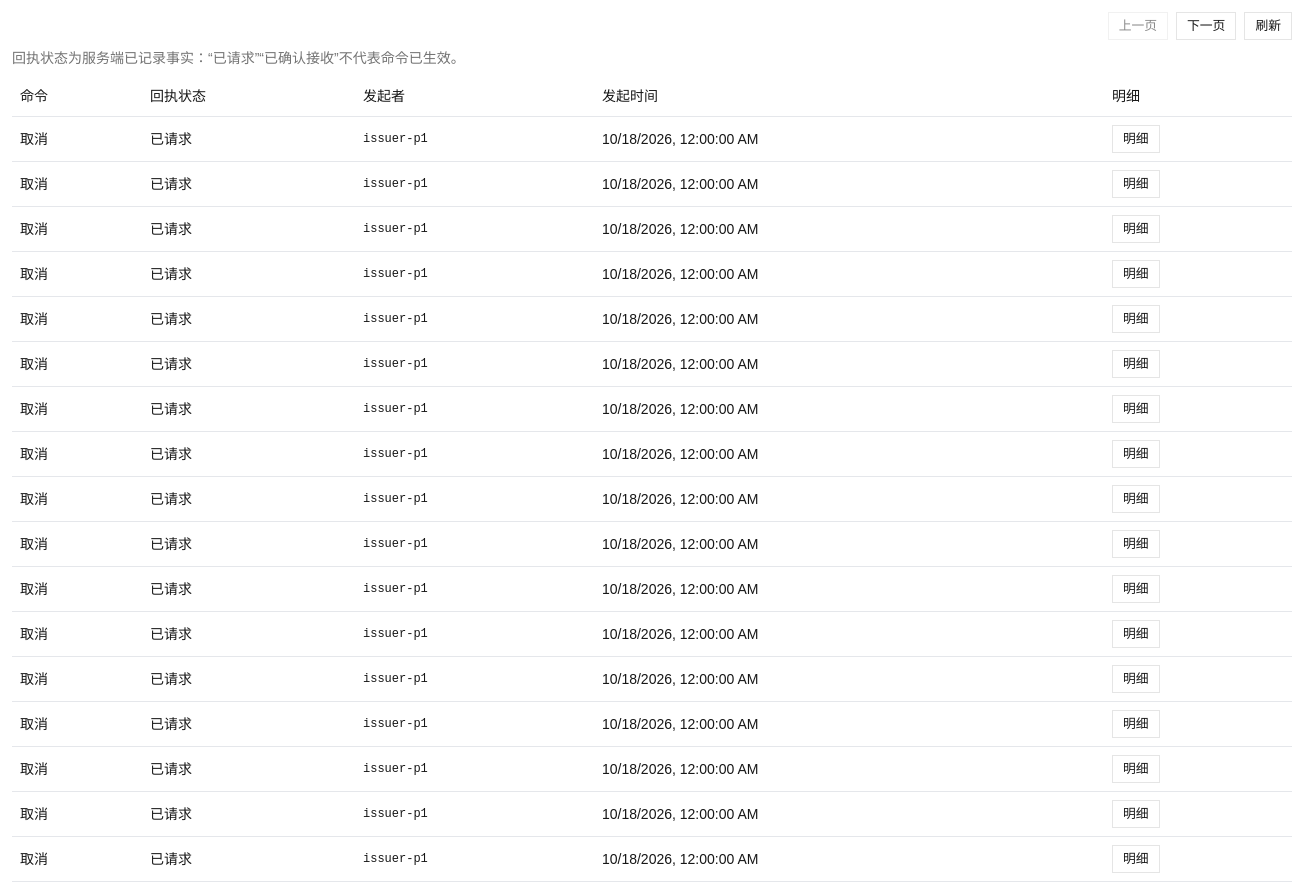
it: TaskCommandsPanel pagination › pages forward by offset and back through the offset stack
Click the button "下一页".
click(1206, 26)  # box [1176,12,1236,40]
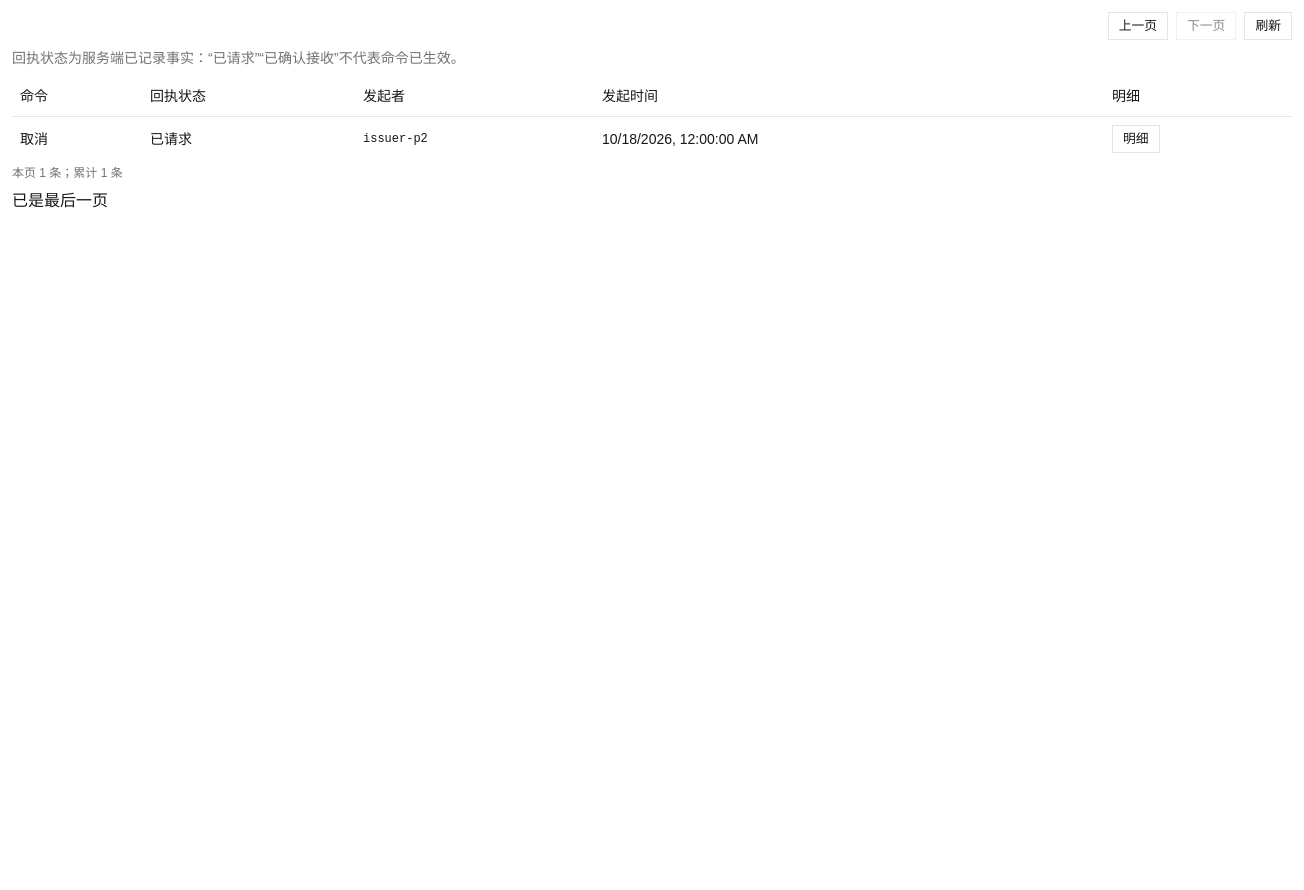
Expected: the text "issuer-p2" is shown, [355,116,594,160]
Expected: the text with test id "task-commands-end" reads "已是最后一页", [12,192,108,208]
Expected: the button "下一页" is disabled, [1176,12,1236,40]
Click the button "上一页".
click(1138, 26)  # box [1108,12,1168,40]
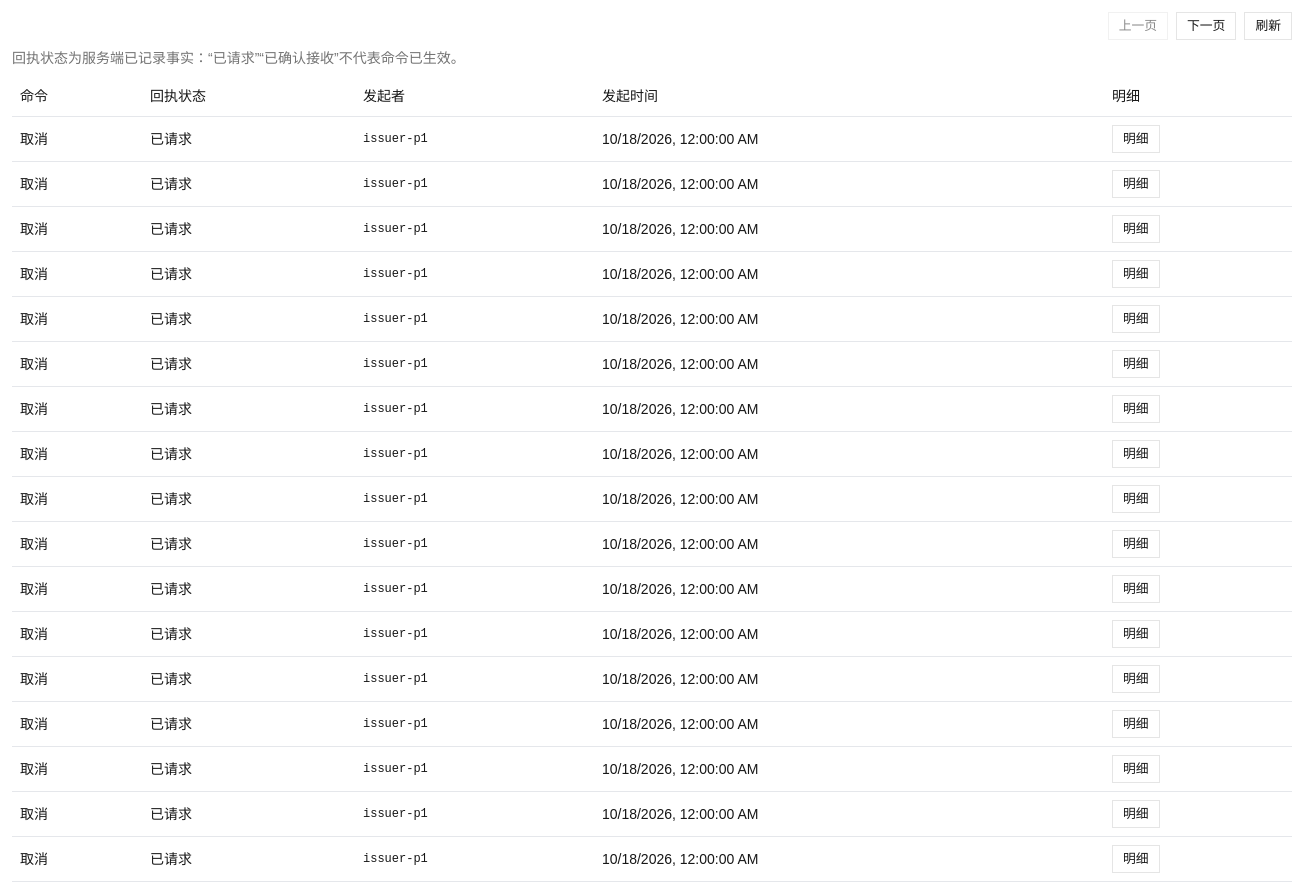
Expected: the 1st text "issuer-p1" is shown, [355,116,594,161]
